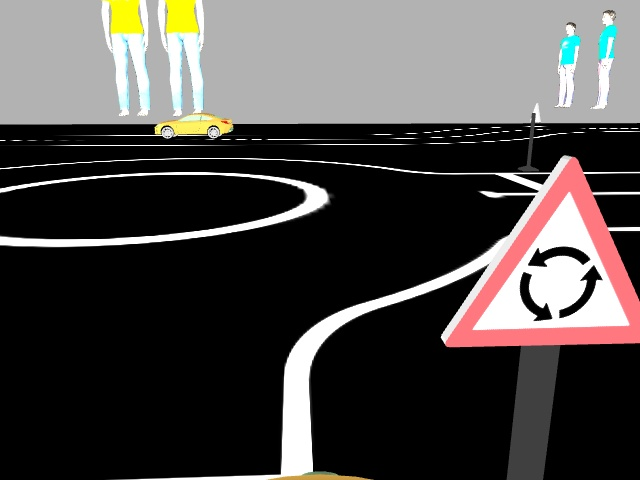Roundabout: (439, 154, 639, 347)
